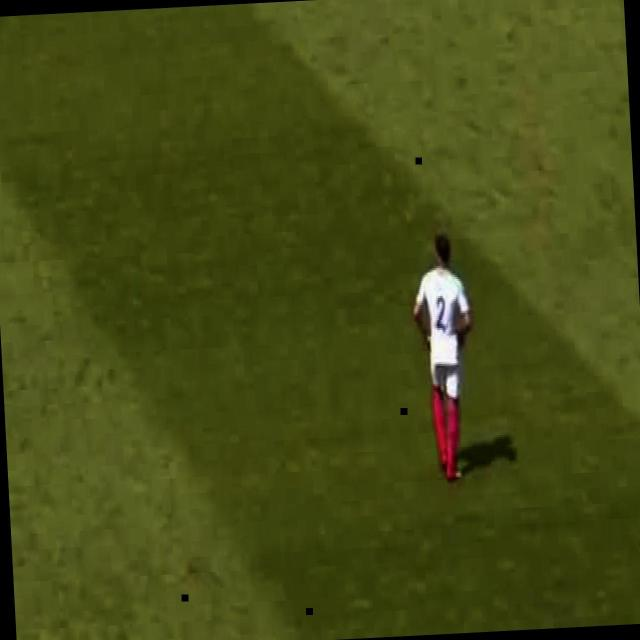player-white: (409, 232, 479, 482)
